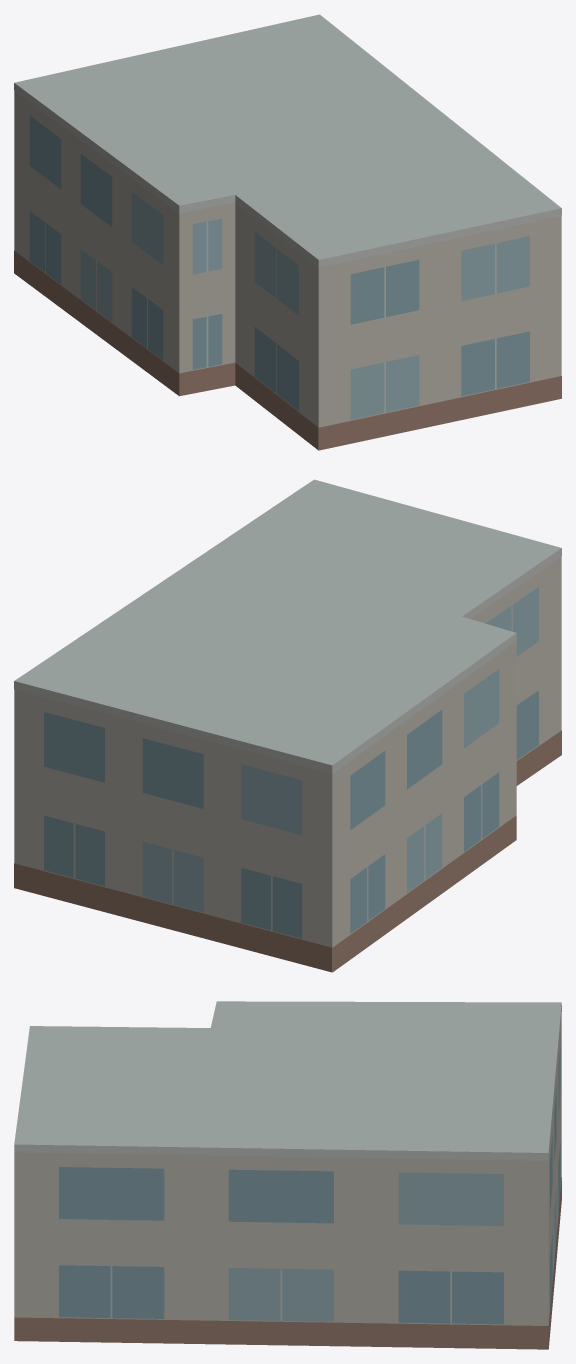
The model's file is survey-upis-32926342.glb.
3 renders of one model, top to bottom at view 1: azimuth 30°, elevation 25°; view 2: azimuth 150°, elevation 25°; view 3: azimuth 270°, elevation 25°, orthographic. The views are drawn at different scales.
Visible parts, largest first — view 1: survey-upis-32926342.tmp; view 2: survey-upis-32926342.tmp; view 3: survey-upis-32926342.tmp.
Part boxes in pixels (x1,y1,x2,y2): survey-upis-32926342.tmp: (14,14,561,450); survey-upis-32926342.tmp: (14,479,561,972); survey-upis-32926342.tmp: (14,1001,561,1349).
Bounding box in the file's own units: 10.11 × 6.1 × 15.42.
